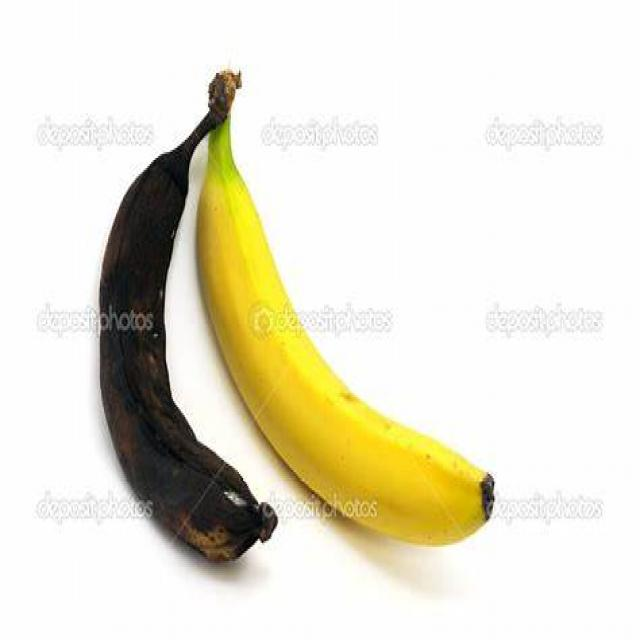Banana: (199, 90, 504, 544), (91, 84, 275, 562)
